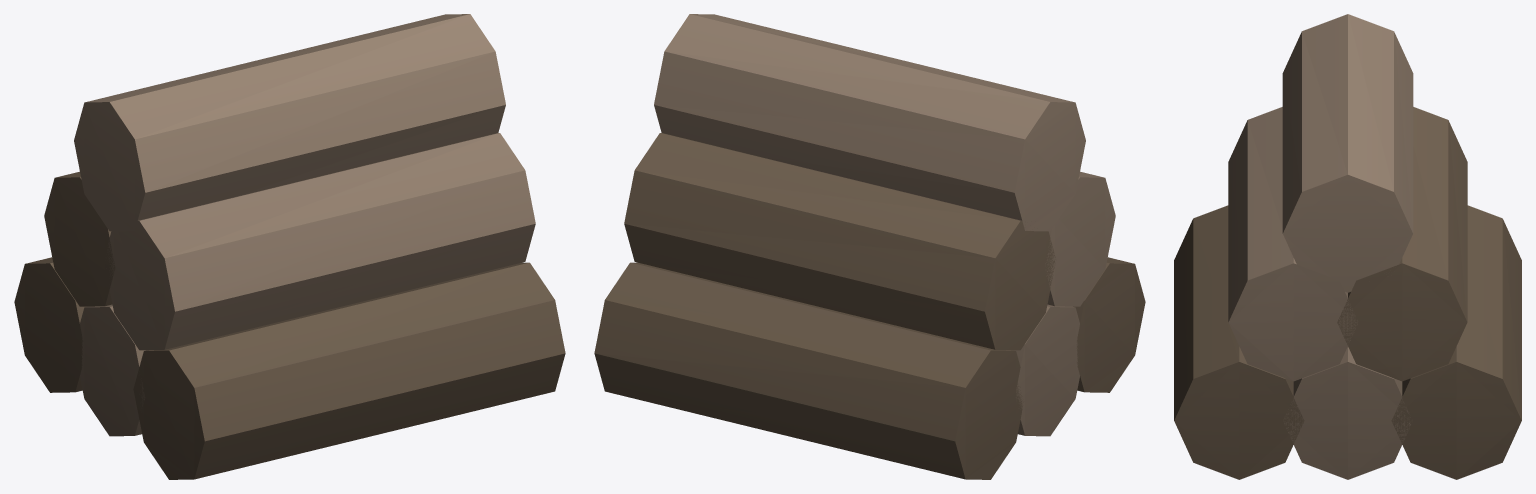
The model's file is wood_pile.glb.
3 views of the same model, side by side, from view 1: azimuth 30°, elevation 25°; view 2: azimuth 150°, elevation 25°; view 3: azimuth 270°, elevation 25° (orthographic). The views are drawn at different scales.
Visible parts, largest first — view 1: wood_pile; view 2: wood_pile; view 3: wood_pile.
Boxes of the visible parts, x1,y1,x2,y2 form: wood_pile: (14, 14, 565, 479); wood_pile: (594, 14, 1145, 479); wood_pile: (1174, 14, 1521, 479).
Size of the model in its own units: 0.7 by 0.62 by 0.64.
